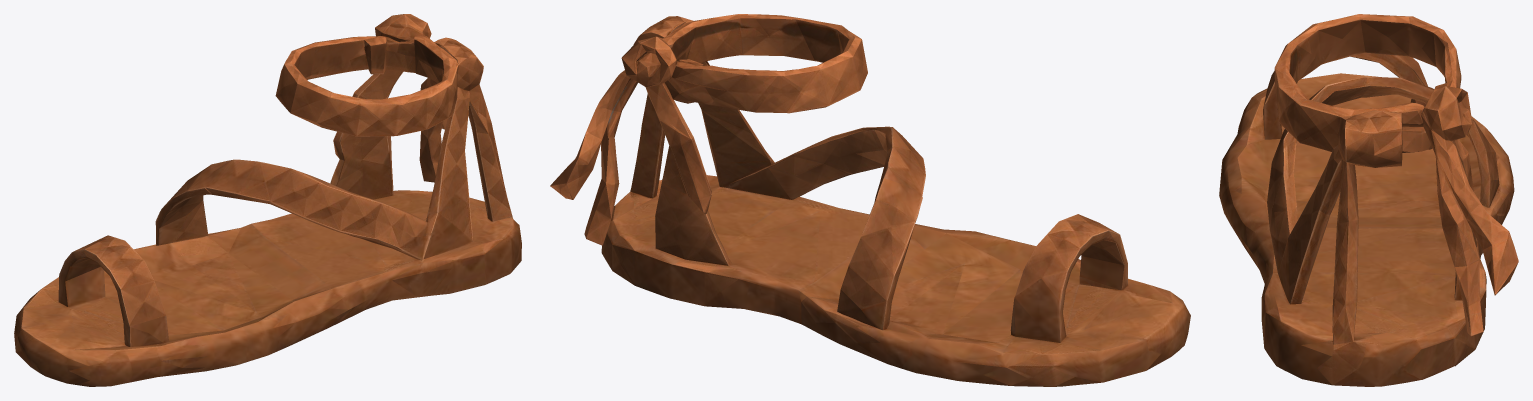
Rendered from sandal.glb.
3 renders of one model, left to right at view 1: azimuth 30°, elevation 25°; view 2: azimuth 150°, elevation 25°; view 3: azimuth 270°, elevation 25°, orthographic. The views are drawn at different scales.
Size of the model in its own units: 1.9 by 0.8042 by 0.8323.
1 material, 1 textured.
